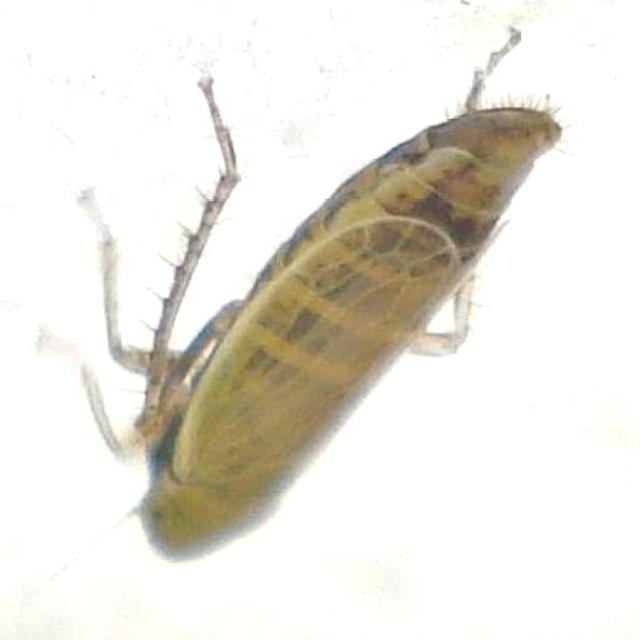green leaf hopper: (37, 31, 561, 561)
